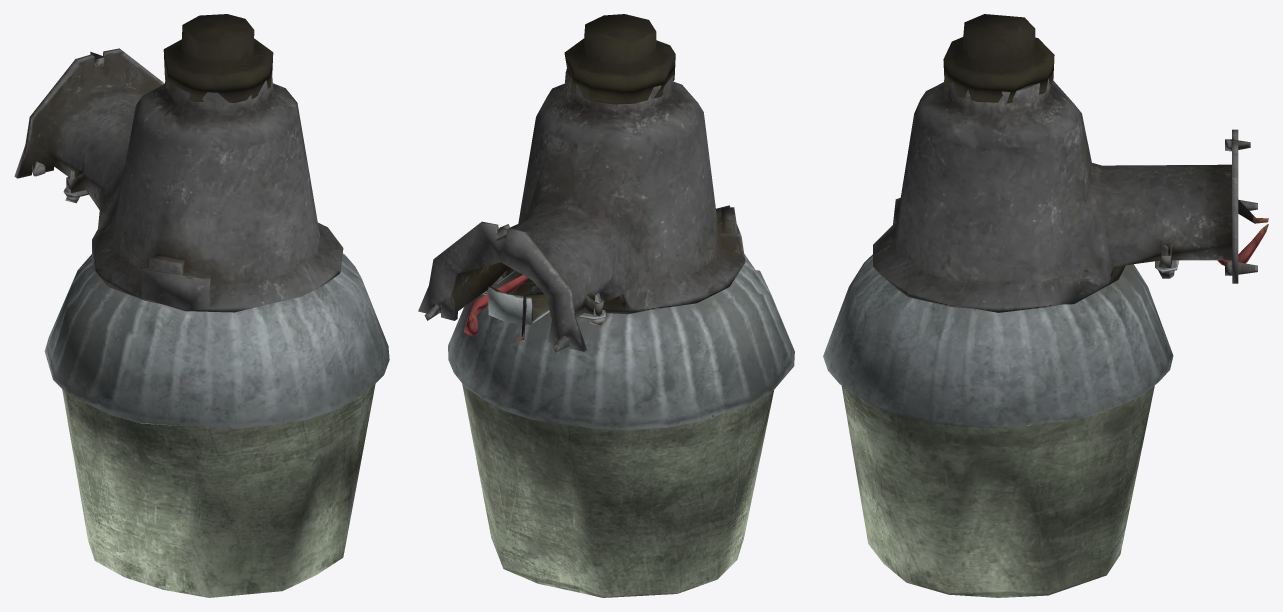
The model's file is security_light.glb.
3 renders of one model, left to right at view 1: azimuth 30°, elevation 25°; view 2: azimuth 150°, elevation 25°; view 3: azimuth 270°, elevation 25°, orthographic.
Visible parts, largest first — view 1: security_light, security_light_glass; view 2: security_light, security_light_glass; view 3: security_light, security_light_glass.
Part boxes in pixels (x1,y1,x2,y2): security_light: [14, 14, 389, 429]; security_light_glass: [62, 384, 375, 597]; security_light: [418, 14, 794, 430]; security_light_glass: [462, 383, 773, 597]; security_light: [823, 14, 1268, 427]; security_light_glass: [841, 385, 1154, 597].
Size of the model in its own units: 0.3231 by 0.5305 by 0.4146.
2 materials, 2 textured.
